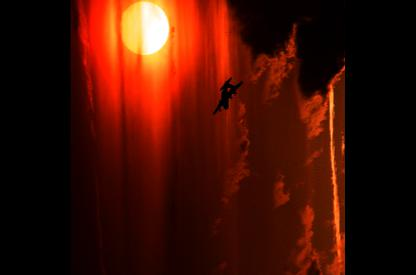Be200: (214, 76, 243, 114)
